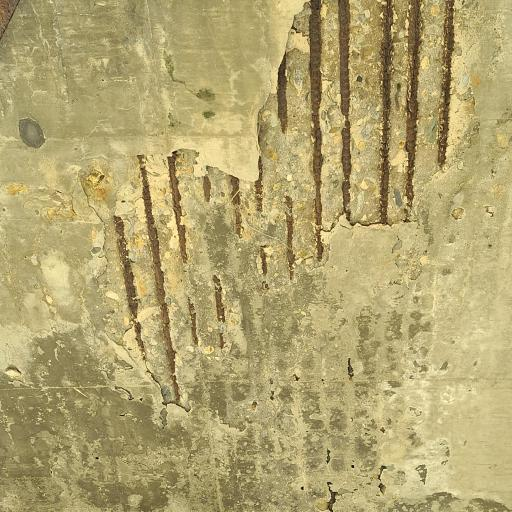exposed_rebar: (138, 155, 186, 407), (114, 217, 145, 359), (309, 1, 323, 261), (405, 0, 421, 219), (379, 0, 393, 224), (338, 0, 352, 219), (437, 0, 454, 169), (168, 151, 187, 263), (277, 53, 288, 133), (286, 199, 294, 279), (231, 176, 241, 236), (213, 276, 225, 324), (188, 299, 199, 345), (255, 156, 262, 212), (327, 482, 337, 512), (260, 245, 267, 276), (203, 174, 211, 201), (347, 358, 354, 380), (220, 329, 224, 348)
spalling: (88, 0, 457, 404)
